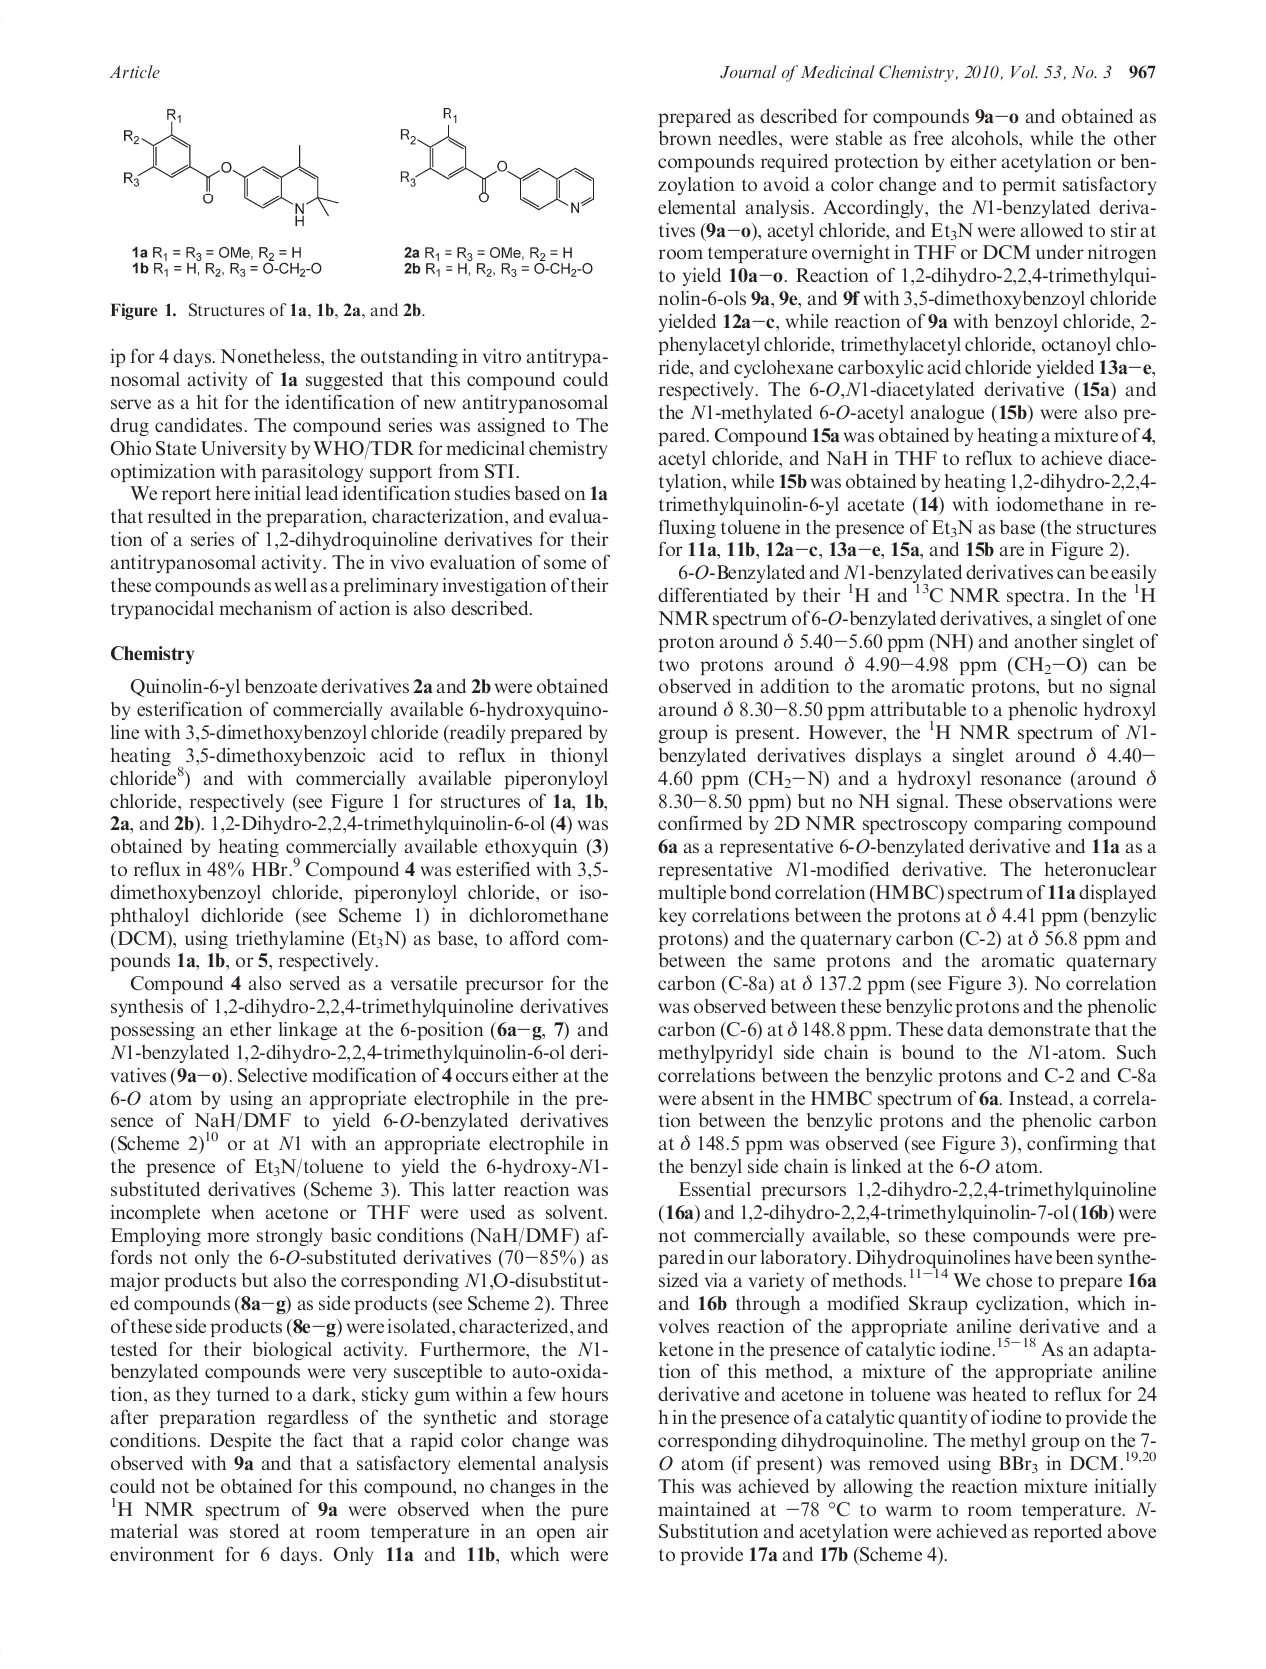exist_molecular: (122, 106, 340, 227), (399, 104, 596, 213)
